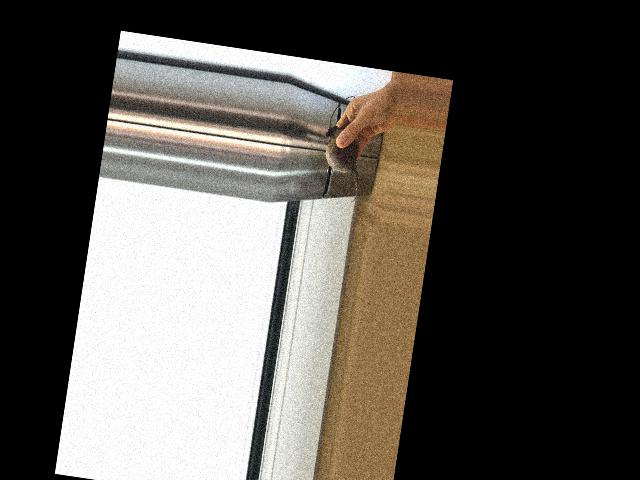beet: (316, 93, 371, 205)
